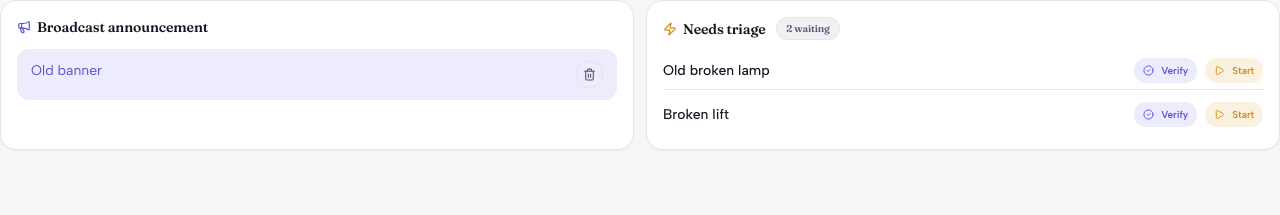
QuickActions — announcement broadcast › clears a live announcement via POST clear
The width and height of the screenshot is (1280, 215).
Expected: the text "Old banner" is shown, [31,62,102,79]
Click the button named "Remove announcement" at (590,74), box [576,61,603,88]
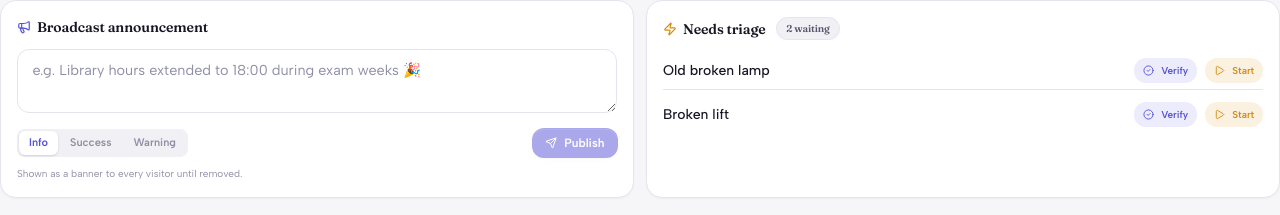
Result: the text "Old banner" is gone
